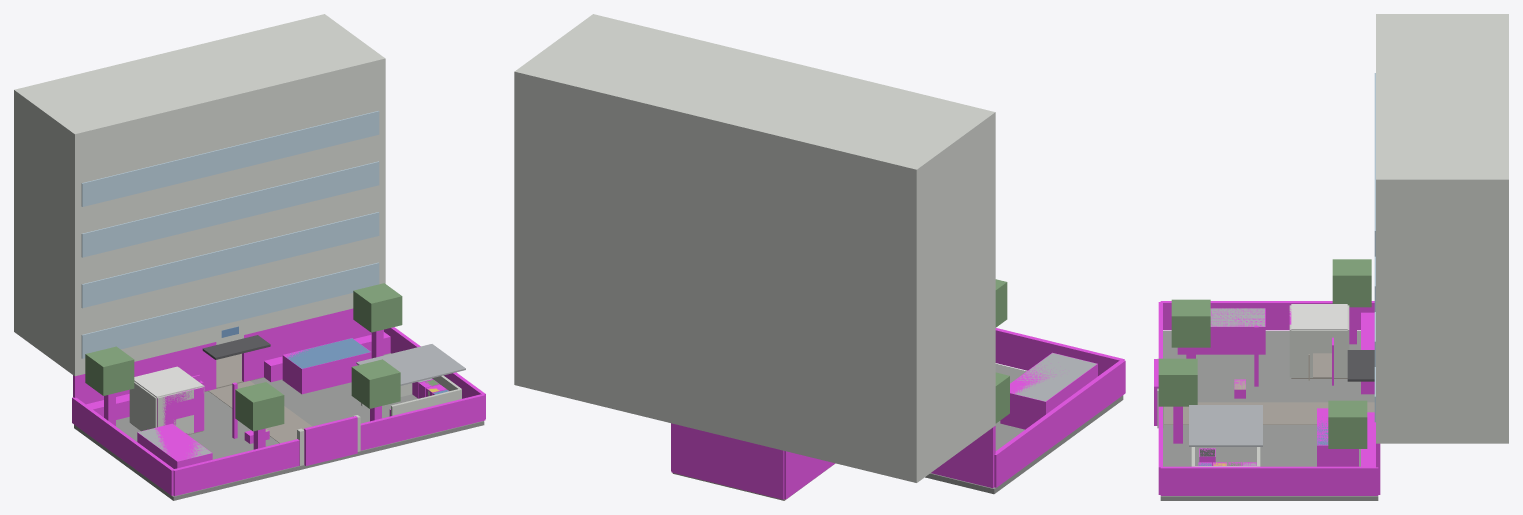
Rendered from prologue_apt_blockout.glb.
3 views of the same model, side by side, from view 1: azimuth 30°, elevation 25°; view 2: azimuth 150°, elevation 25°; view 3: azimuth 270°, elevation 25° (orthographic). The views are drawn at different scales.
Parts seen in each view (by area): view 1: tower, yard, veranda1, veranda2, veranda3, veranda0, col_facade_1, col_fence_s_0, col_fence_s_1, col_fence_w_0, col_facade_0, col_car1 (+19 smaller); view 2: tower, col_lobby_wn_0, col_fence_w_0, col_fence_s_0, col_car0, col_facade_0, car0, yard, col_lobby_ww_0, tree0_crown; view 3: tower, yard, col_fence_e_0, bins_roof, col_car0, tree1_crown, tree2_crown, tree3_crown, walk, tree0_crown, col_fence_w_0, booth_ceiling (+8 smaller).
Boxes of the visible parts, left/top/right/bottom form: tower: left=14, top=14, right=385, bottom=376; yard: left=74, top=353, right=484, bottom=500; veranda1: left=81, top=212, right=379, bottom=308; veranda2: left=81, top=161, right=379, bottom=257; veranda3: left=81, top=111, right=379, bottom=206; veranda0: left=81, top=262, right=379, bottom=358; col_facade_1: left=242, top=308, right=383, bottom=381; col_fence_s_0: left=173, top=439, right=299, bottom=496; col_fence_s_1: left=360, top=394, right=485, bottom=450; col_fence_w_0: left=72, top=397, right=174, bottom=495; col_facade_0: left=73, top=342, right=216, bottom=404; col_car1: left=282, top=338, right=371, bottom=394; tower: left=514, top=14, right=995, bottom=482; col_lobby_wn_0: left=671, top=423, right=784, bottom=499; col_fence_w_0: left=994, top=359, right=1125, bottom=487; col_fence_s_0: left=995, top=328, right=1124, bottom=375; col_car0: left=1000, top=352, right=1097, bottom=429; col_facade_0: left=931, top=426, right=995, bottom=488; car0: left=1012, top=353, right=1096, bottom=401; yard: left=925, top=363, right=1123, bottom=494; col_lobby_ww_0: left=784, top=451, right=834, bottom=499; tree0_crown: left=995, top=372, right=1009, bottom=423; tower: left=1376, top=14, right=1508, bottom=443; yard: left=1160, top=331, right=1378, bottom=500; col_fence_e_0: left=1160, top=466, right=1378, bottom=495; bins_roof: left=1189, top=405, right=1262, bottom=446; col_car0: left=1177, top=308, right=1265, bottom=354; tree1_crown: left=1328, top=400, right=1367, bottom=448; tree2_crown: left=1171, top=299, right=1210, bottom=347; tree3_crown: left=1158, top=358, right=1197, bottom=406; walk: left=1164, top=402, right=1374, bottom=424; tree0_crown: left=1332, top=259, right=1371, bottom=307; col_fence_w_0: left=1160, top=301, right=1374, bottom=330; booth_ceiling: left=1291, top=304, right=1347, bottom=329.
Bounding box in the file's own units: 18.2 × 16.3 × 16.3.
